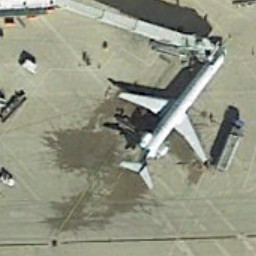Airplane: (107, 33, 231, 190)
